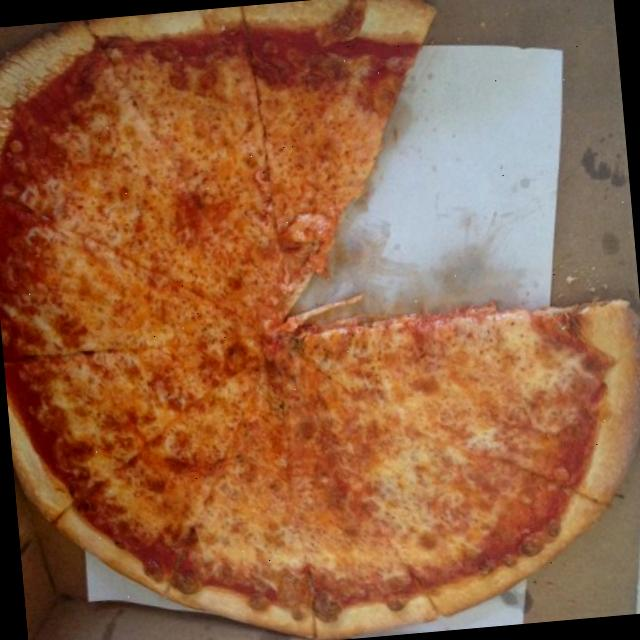pizza: (0, 0, 640, 637)
